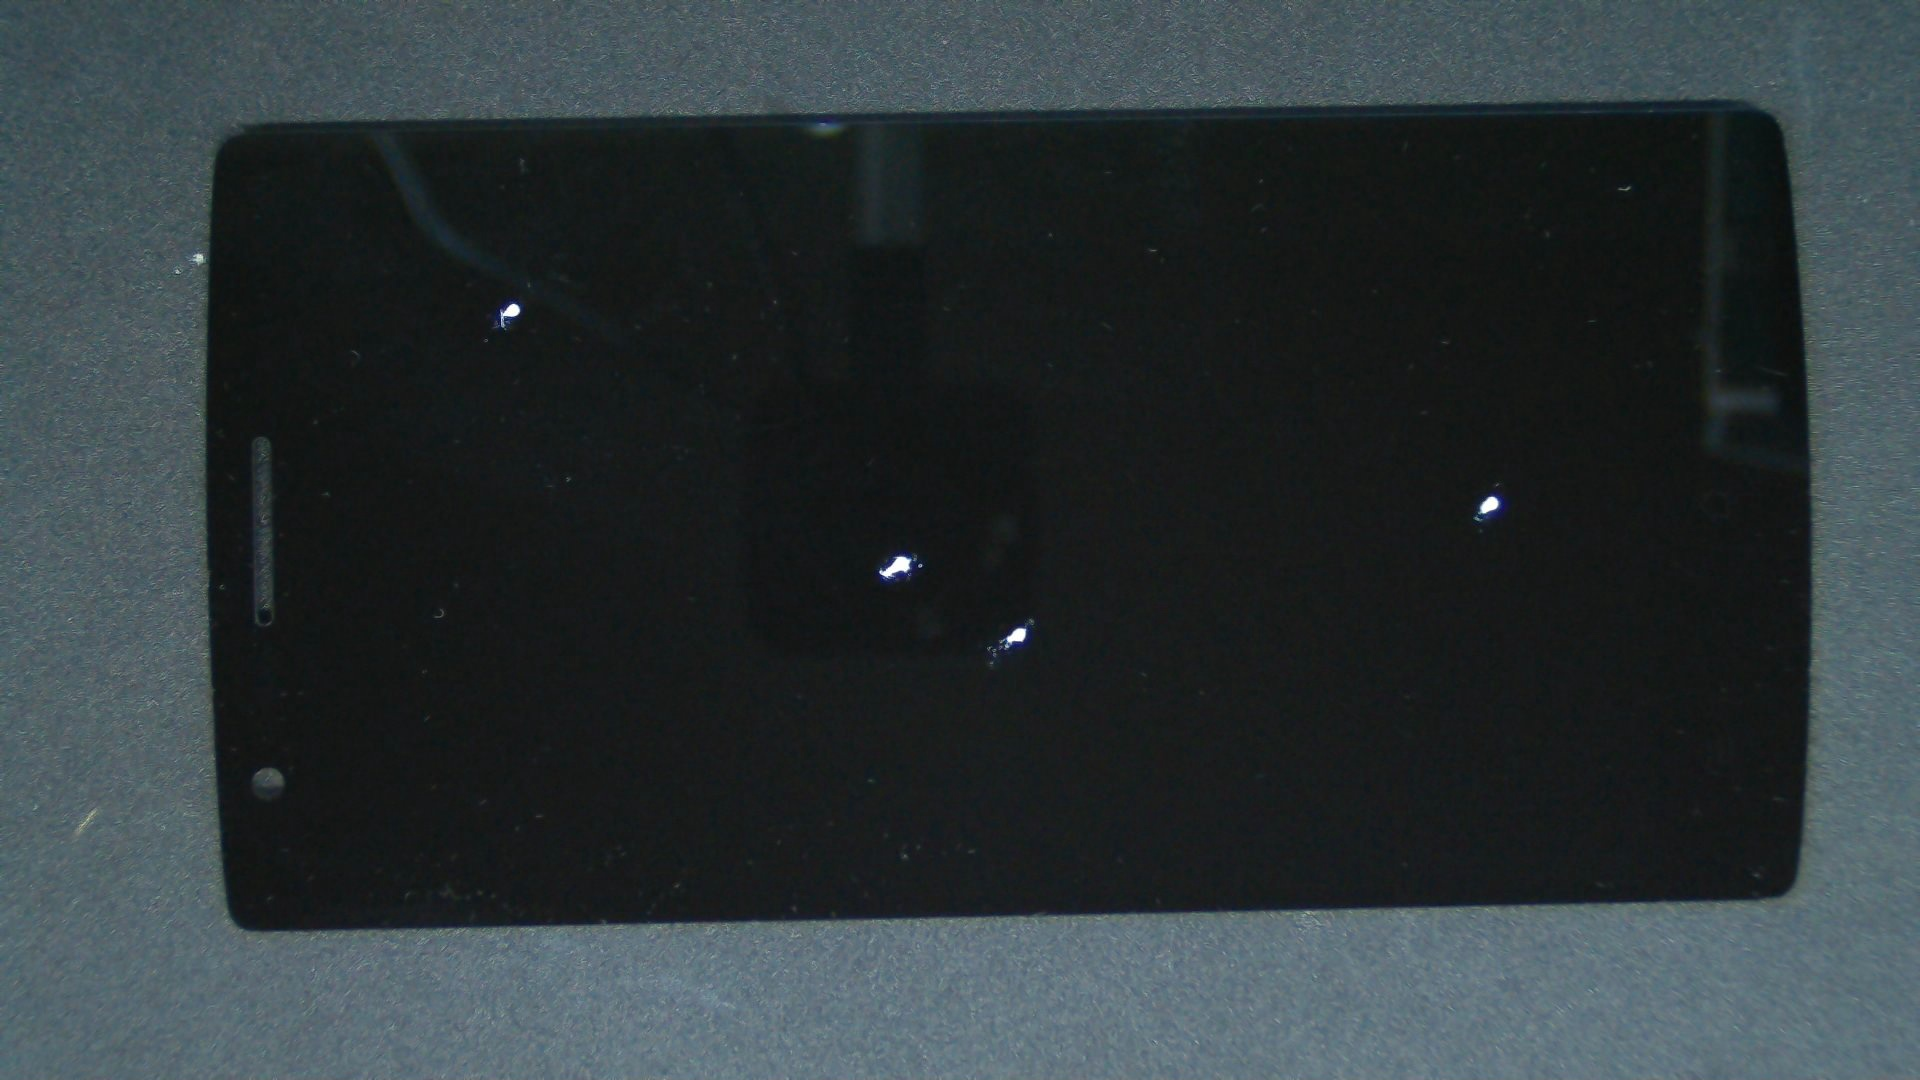oil: (514, 309, 1542, 926), (746, 247, 1920, 742), (456, 276, 1367, 828), (256, 150, 766, 454)
